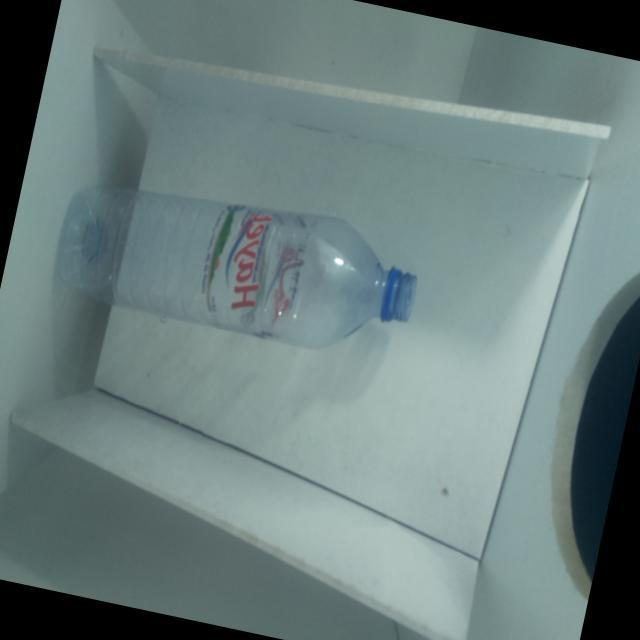good: (30, 133, 444, 402)
